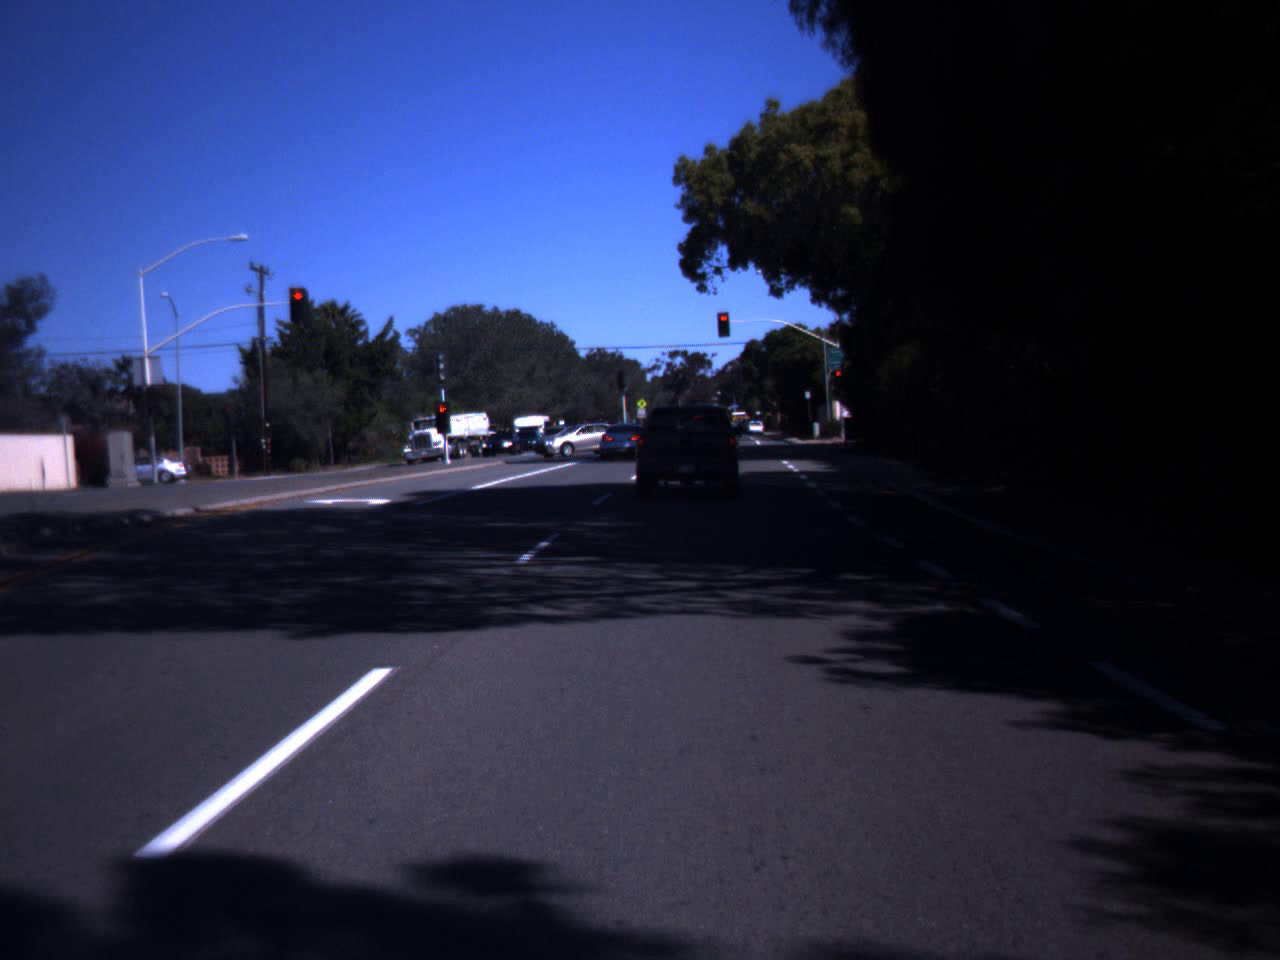stop: (286, 290, 310, 317), (434, 406, 452, 424), (716, 314, 731, 332), (833, 369, 844, 387)
